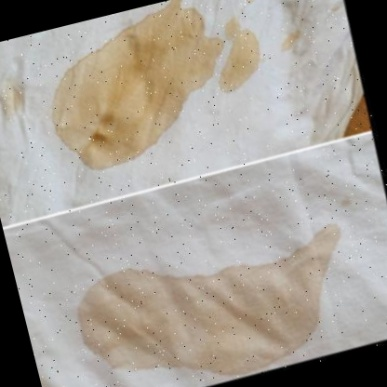coffee: (93, 250, 335, 379), (61, 54, 168, 142), (146, 9, 215, 87)
